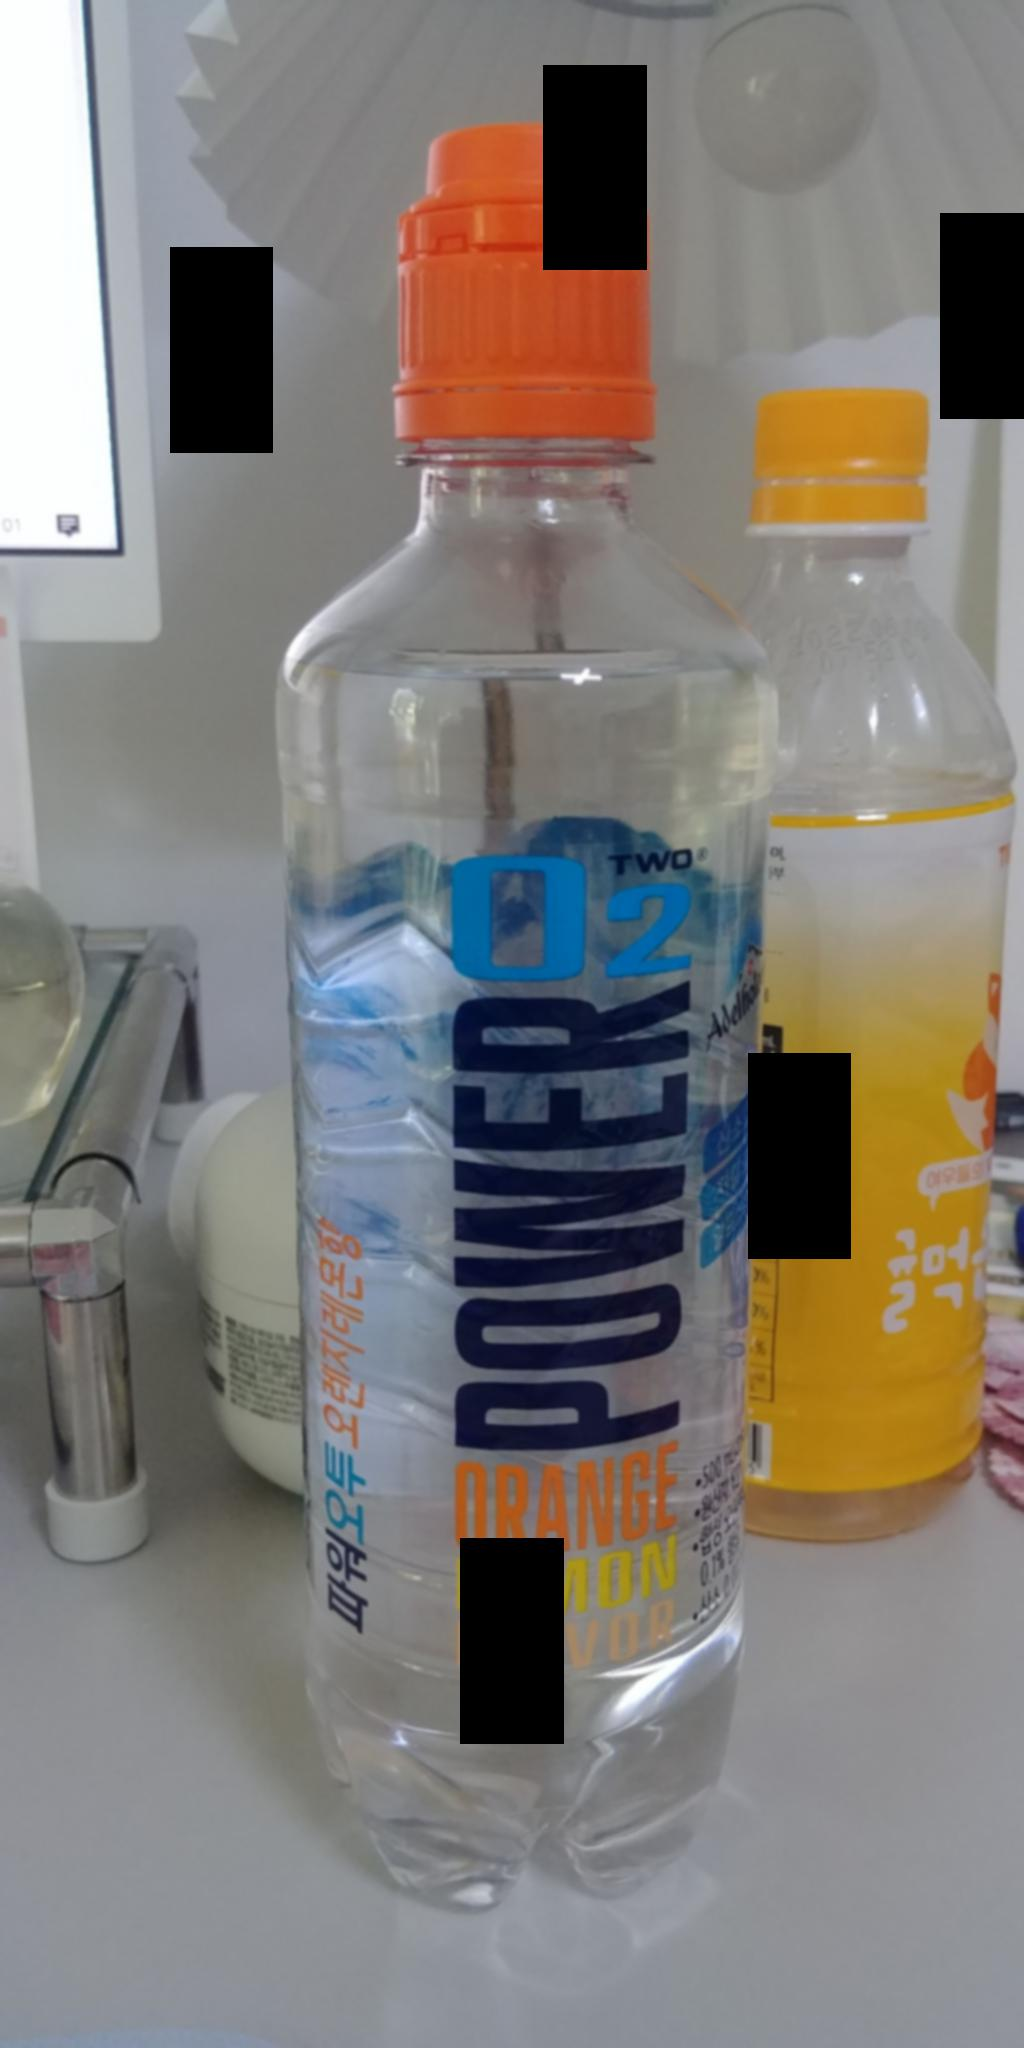powerO2_orange: (257, 128, 772, 1927)
